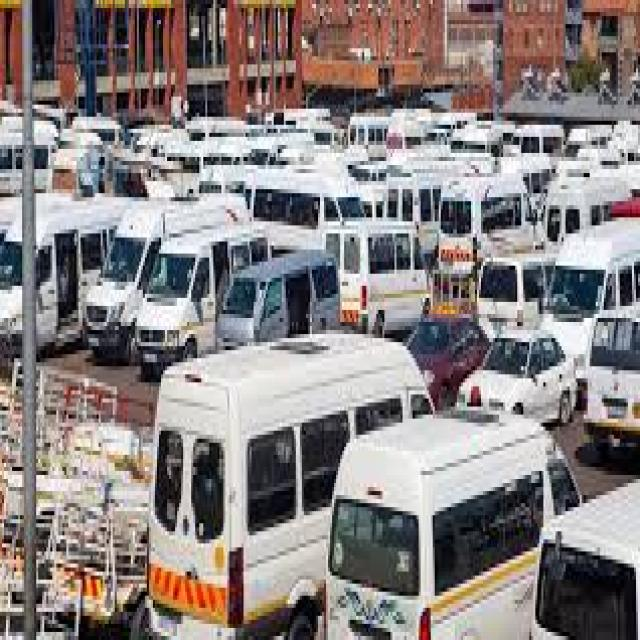MiniBus taxi: (139, 338, 431, 632), (322, 427, 582, 636), (322, 221, 441, 322), (135, 245, 217, 382), (84, 238, 151, 370), (583, 310, 640, 451)
Passenger Car: (456, 330, 580, 439), (391, 314, 495, 423)
